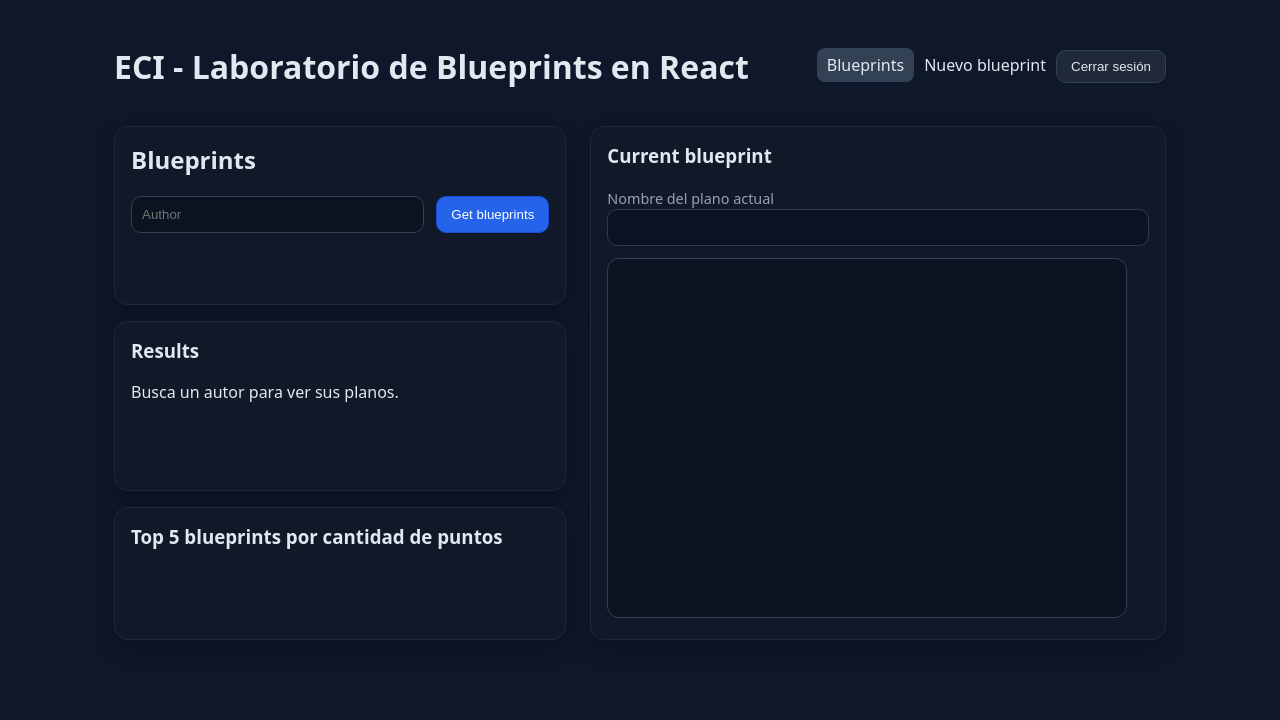
Test: App header › cerrar sesión borra el token y vuelve a mostrar el link de Login
The image size is (1280, 720).
Click the button "Cerrar sesión".
click(1111, 67)  # box [1056,50,1166,83]
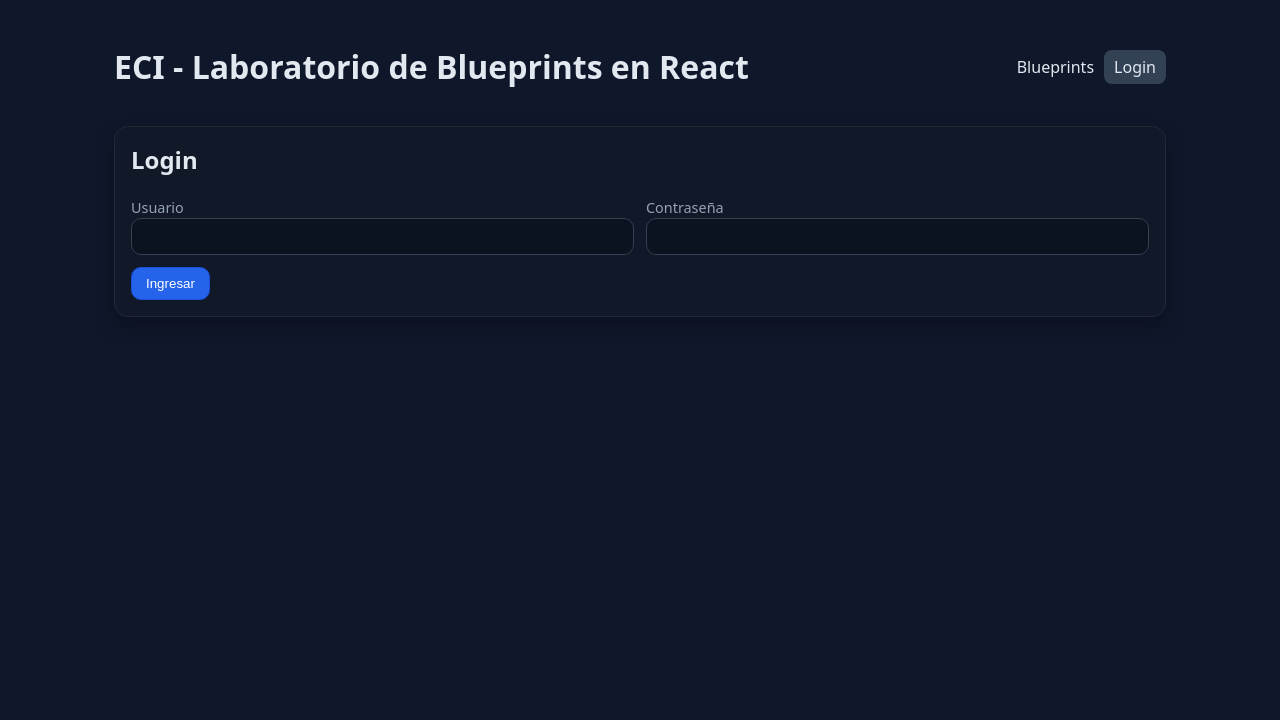
Expected: the link "Login" is shown, [1104,50,1166,84]
